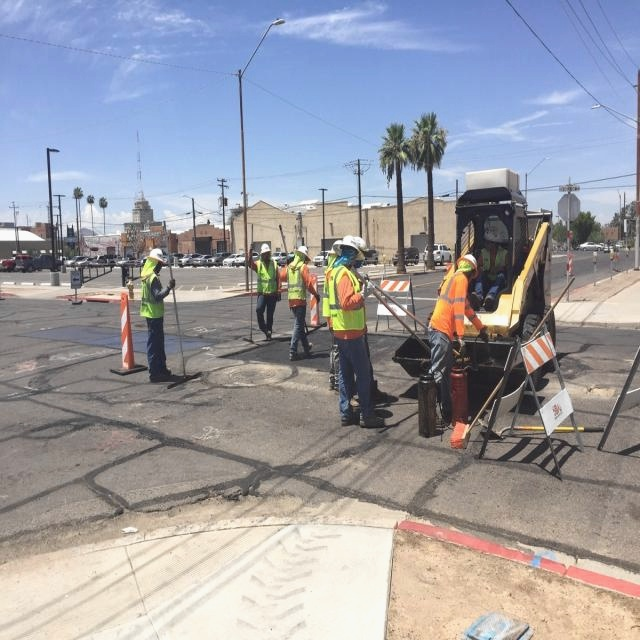Con_Casco: (333, 236, 365, 260), (146, 247, 166, 267), (294, 246, 311, 260), (259, 243, 271, 259)
Con_Chaleco: (430, 273, 467, 331), (331, 264, 363, 330), (283, 261, 310, 300), (140, 274, 164, 317), (255, 259, 278, 295)
